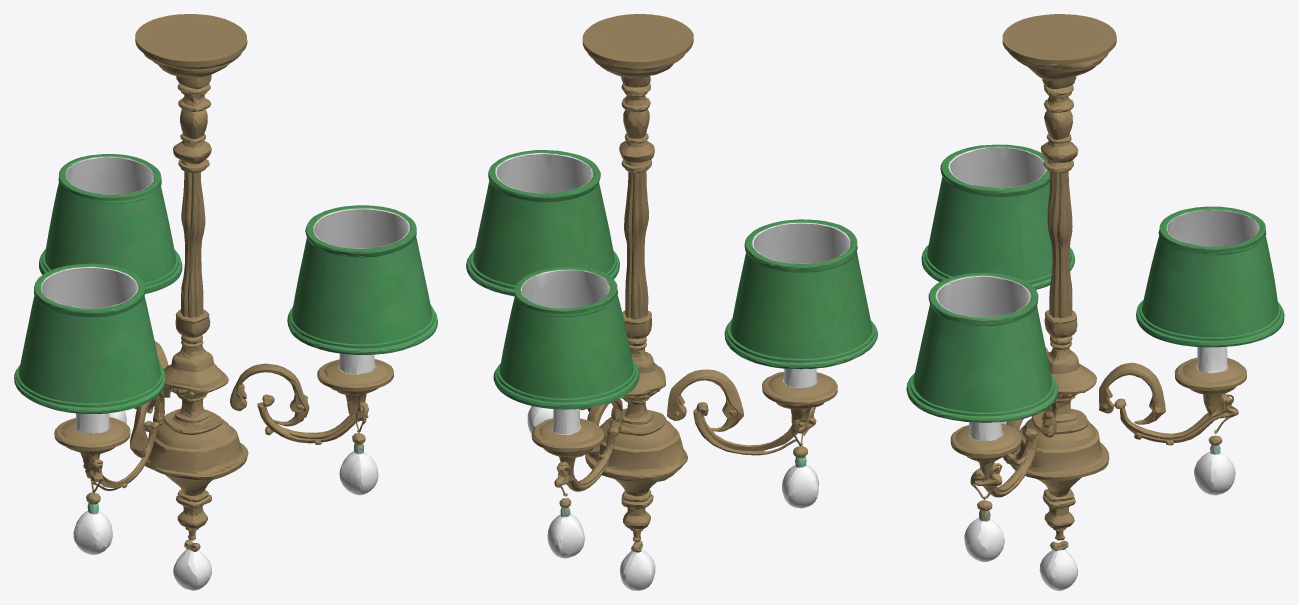
File: lamp.glb
3 views of the same model, side by side, from view 1: azimuth 30°, elevation 25°; view 2: azimuth 150°, elevation 25°; view 3: azimuth 270°, elevation 25° (orthographic).
Parts seen in each view (by area): view 1: model; view 2: model; view 3: model.
Part boxes in pixels (<box>): model: <box>14,14,437,590</box>; model: <box>466,14,877,590</box>; model: <box>906,14,1284,590</box>.
Bounding box in the file's own units: 1.43 × 1.9 × 1.18.
Materials: 1 (1 with a texture image).
